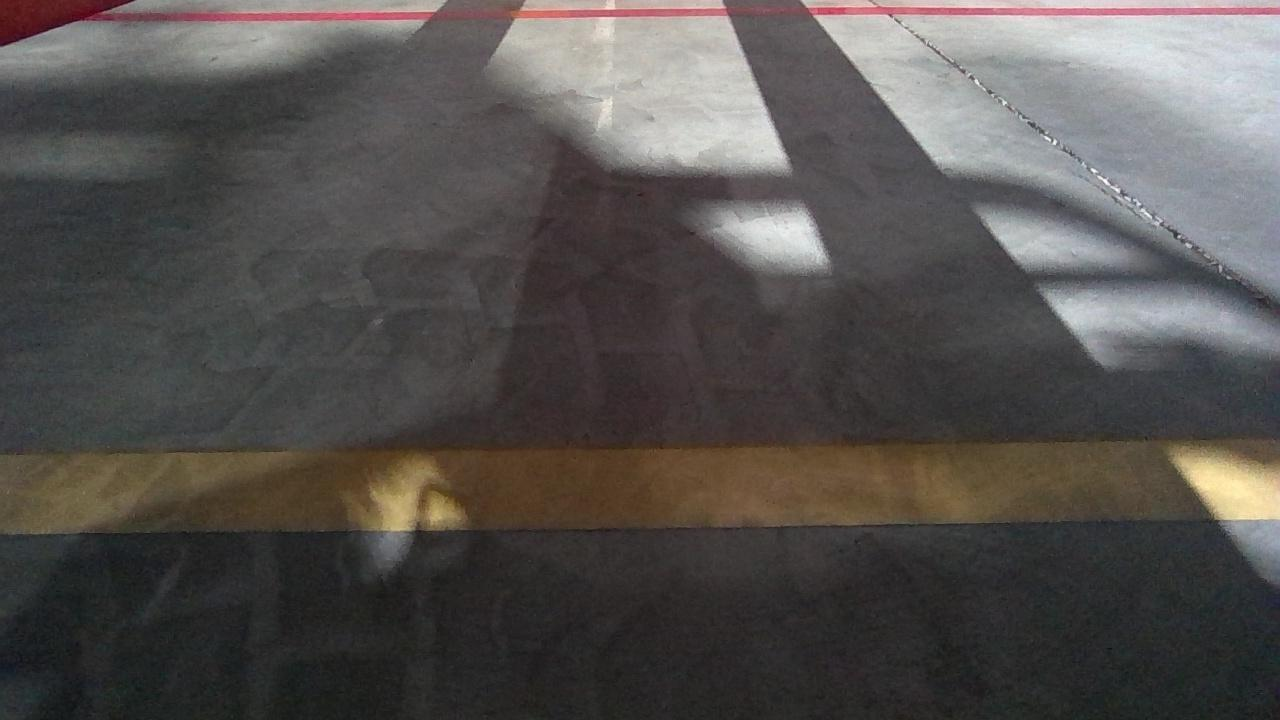red_line: (80, 0, 1278, 23)
yellow_line: (0, 438, 1278, 542)
